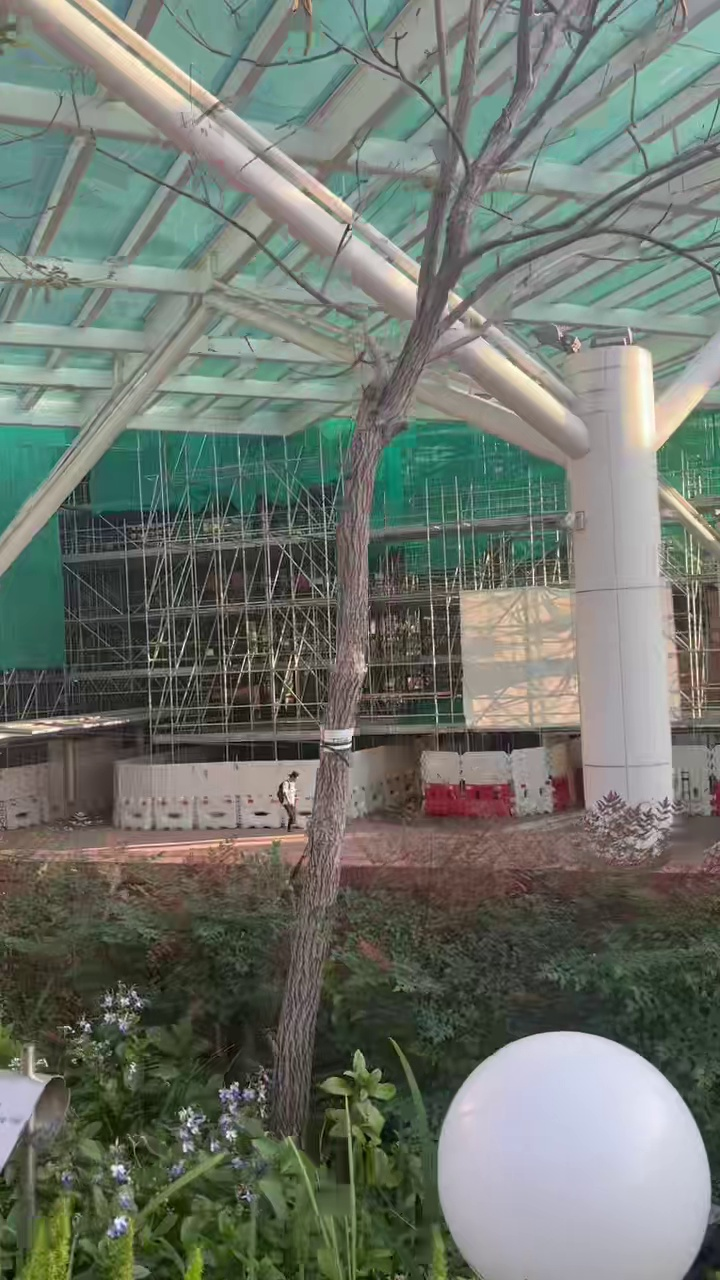Tabebuia chrysantha: (272, 0, 716, 1136)
